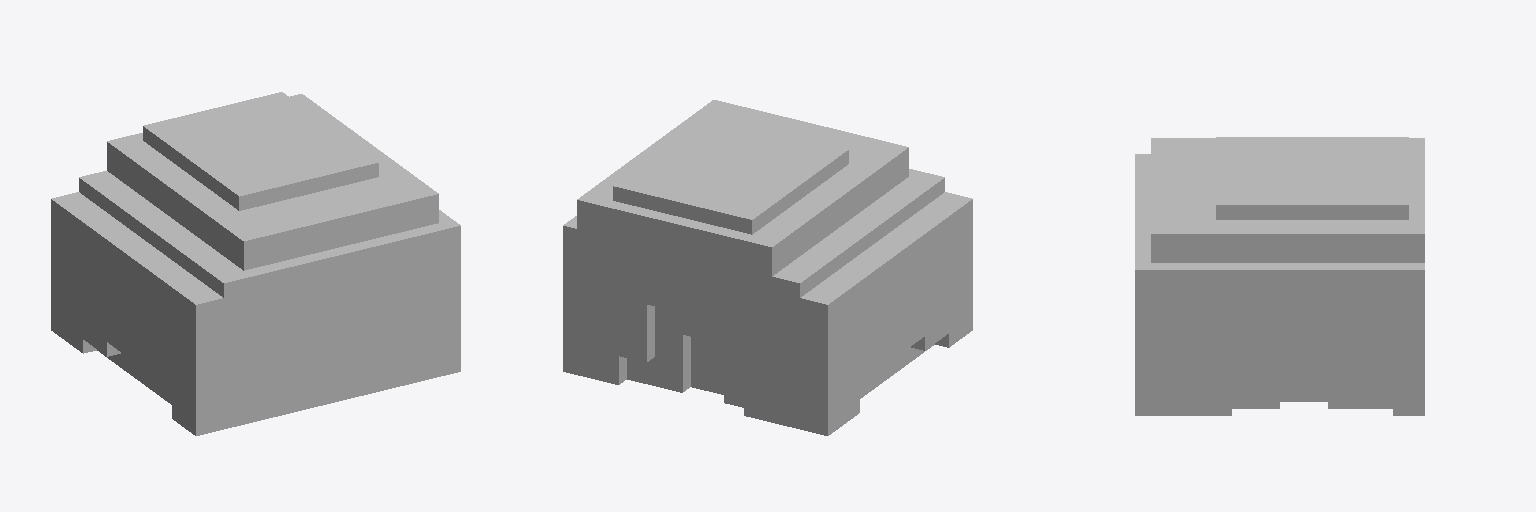
The model's file is Rock.obj.
3 views of the same model, side by side, from view 1: azimuth 30°, elevation 25°; view 2: azimuth 150°, elevation 25°; view 3: azimuth 270°, elevation 25° (orthographic).
Visible parts, largest first — view 1: object 1; view 2: object 1; view 3: object 1.
Boxes of the visible parts, x1,y1,x2,y2 form: object 1: [51, 92, 460, 435]; object 1: [563, 100, 972, 435]; object 1: [1135, 137, 1424, 415].
Size of the model in its own units: 1.9 by 1.3 by 1.8.